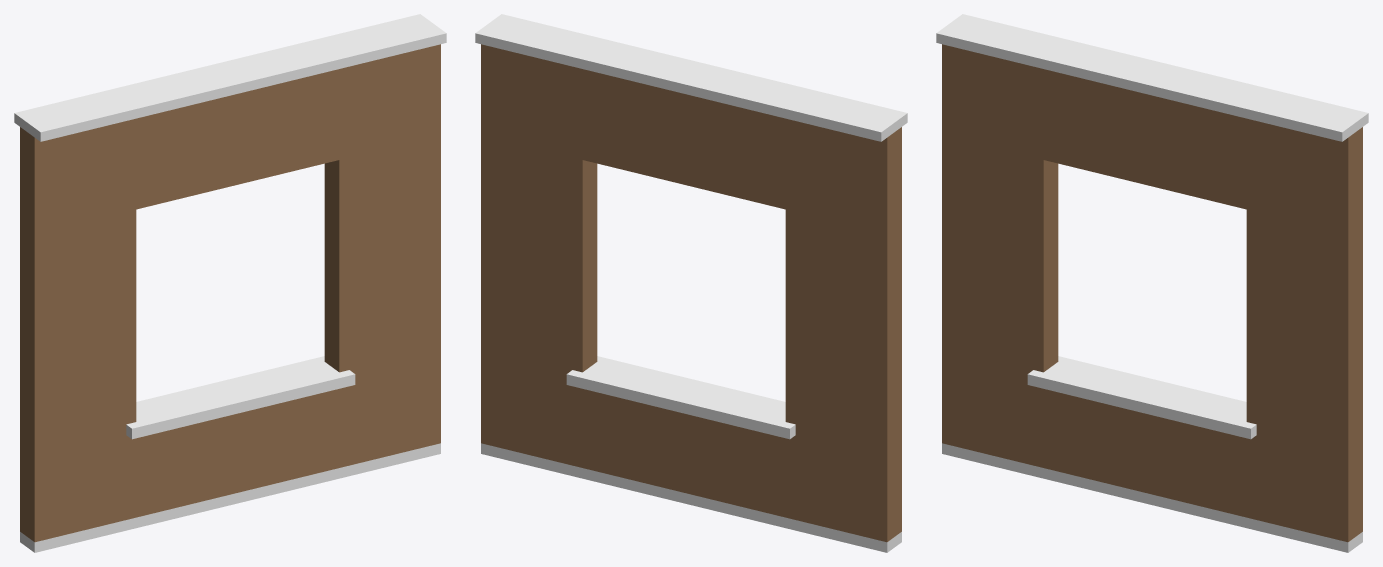
The model's file is SM_4x4m_Window.fbx.
3 views of the same model, side by side, from view 1: azimuth 30°, elevation 25°; view 2: azimuth 150°, elevation 25°; view 3: azimuth 330°, elevation 25° (orthographic).
Parts seen in each view (by area): view 1: SM_4x4m_Window.001; view 2: SM_4x4m_Window.001; view 3: SM_4x4m_Window.001.
Boxes of the visible parts, x1,y1,x2,y2 form: SM_4x4m_Window.001: (14, 14, 446, 552); SM_4x4m_Window.001: (475, 14, 907, 552); SM_4x4m_Window.001: (936, 14, 1368, 552).
Size of the model in its own units: 400 by 45 by 400.
